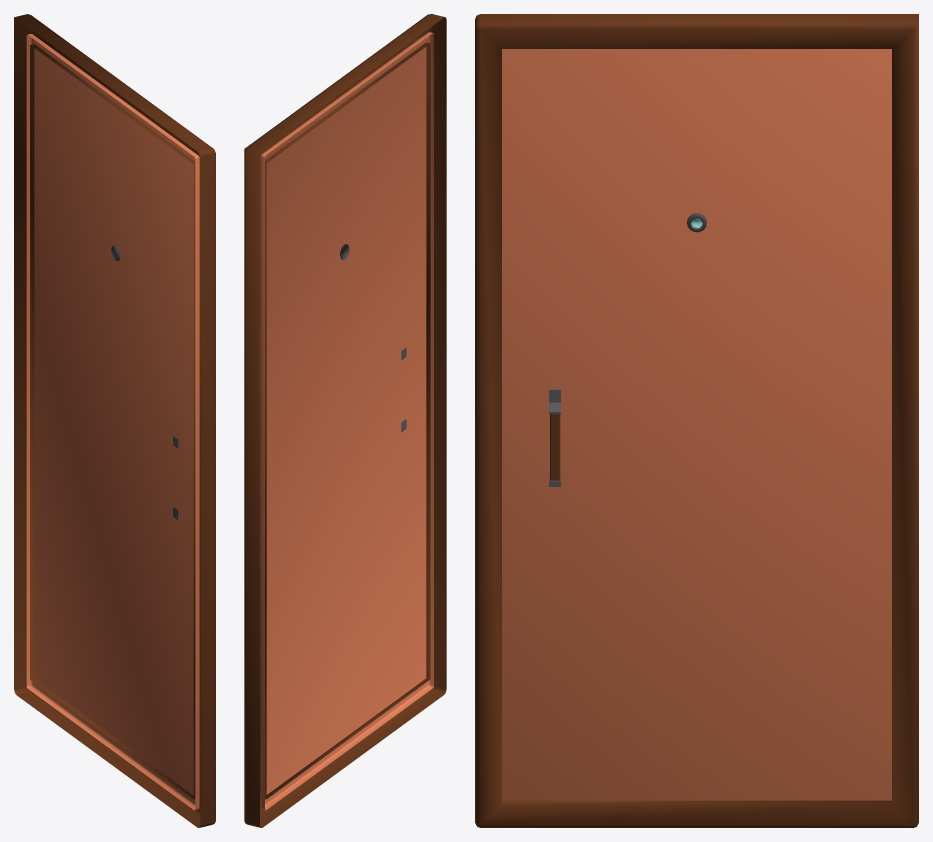
The model's file is house_door.fbx.
3 renders of one model, left to right at view 1: azimuth 30°, elevation 25°; view 2: azimuth 150°, elevation 25°; view 3: azimuth 270°, elevation 25°, orthographic. The views are drawn at different scales.
Visible parts, largest first — view 1: Text.019; view 2: Text.019; view 3: Text.019.
Boxes of the visible parts, x1,y1,x2,y2 form: Text.019: (14,14,215,827); Text.019: (244,14,446,827); Text.019: (475,14,918,827).
Bounding box in the file's own units: 16.08 × 401 × 200.
